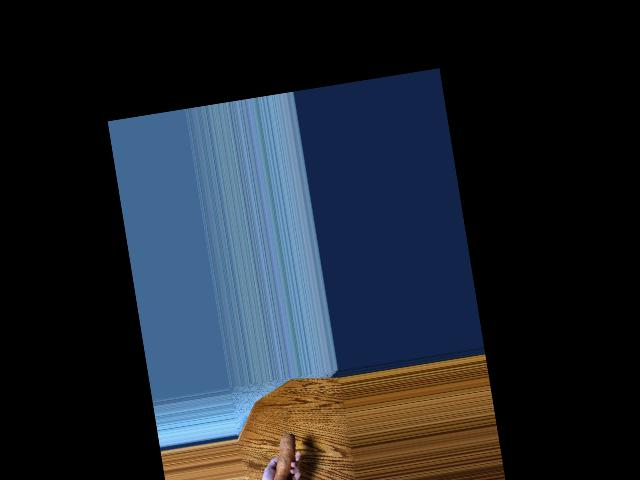sweet_potato: (257, 430, 307, 480)
